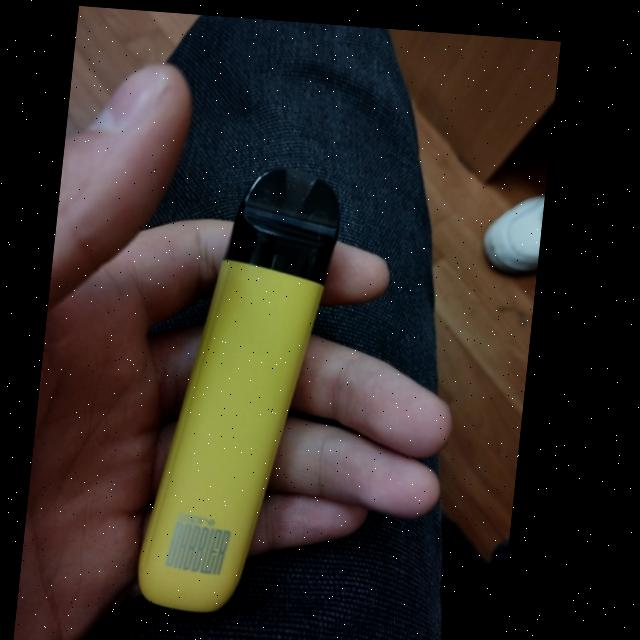vape: (146, 153, 352, 615)
